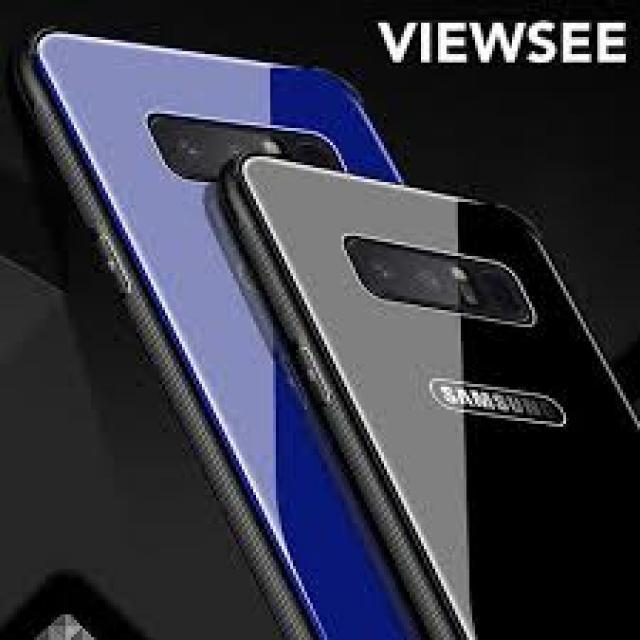lens: (346, 228, 540, 325), (144, 106, 351, 182)
phone: (9, 24, 420, 640), (243, 156, 640, 639)
